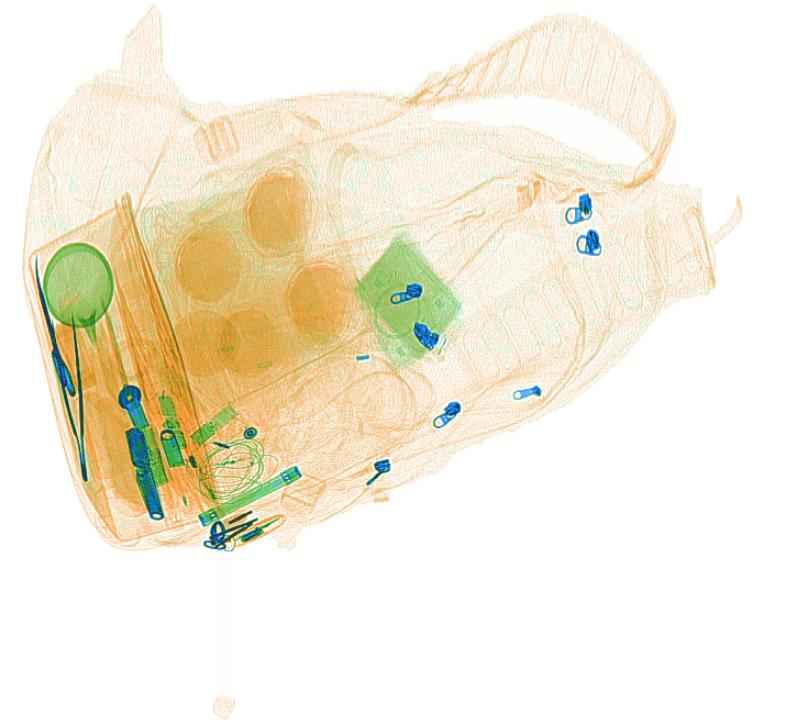USBFlashDisk: (186, 400, 239, 449), (136, 427, 172, 489), (156, 393, 186, 452)
scissors: (30, 256, 78, 401)
